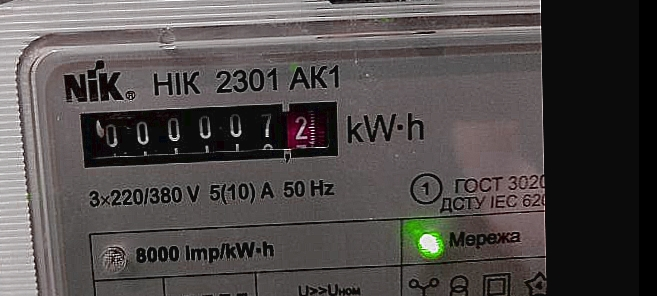0: (164, 113, 181, 142), (101, 120, 119, 147), (195, 112, 213, 139), (227, 110, 243, 139), (133, 117, 150, 144)
2: (292, 114, 309, 140)
7: (258, 109, 274, 139)
screen: (68, 94, 349, 172)
